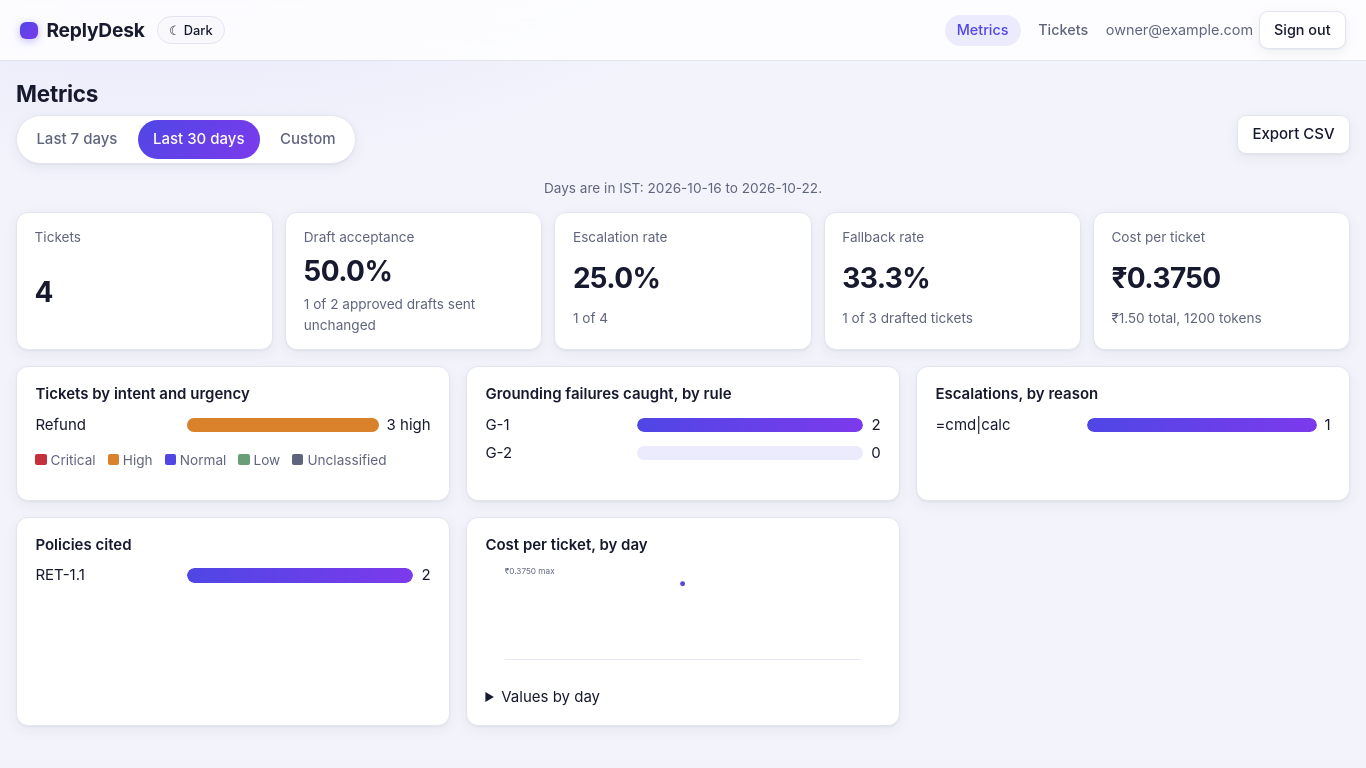
Test: accessibility › opens on the metrics page, with a way to the tickets and to sign out
The image size is (1366, 768).
Expected: the text "Cost per ticket, by day" is shown, x1=485 y1=535 x2=648 y2=554
Expected: the button "Sign out" is shown, x1=1259 y1=11 x2=1346 y2=49
Click the link "Tickets".
click(1063, 30)  # box x1=1038 y1=21 x2=1088 y2=38
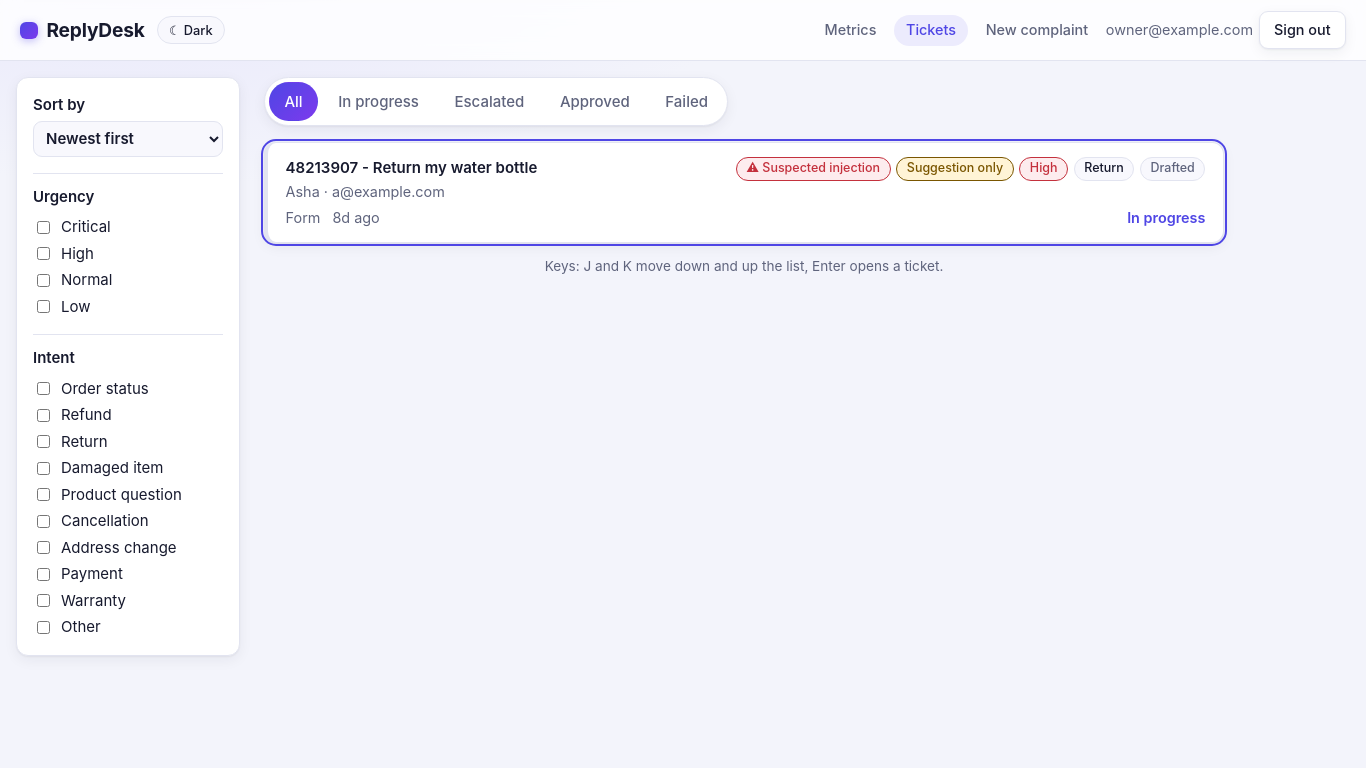
Expected: the link "48213907 - Return my water bottle" is shown, x1=286 y1=158 x2=537 y2=177
